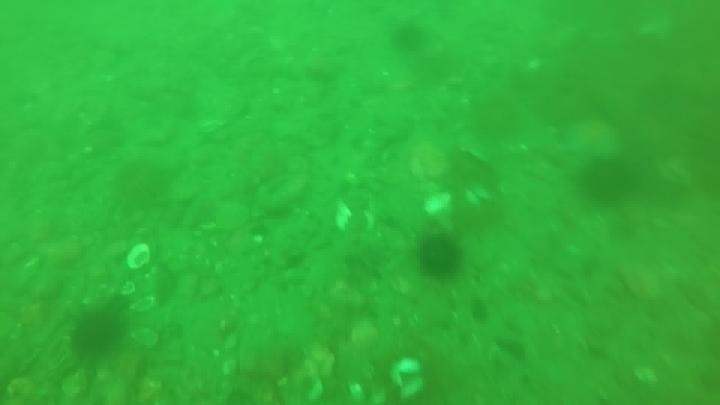echinus: (111, 159, 171, 212), (69, 308, 126, 360), (578, 157, 638, 206), (469, 93, 523, 142), (416, 233, 464, 280), (390, 21, 428, 54)
starfish: (560, 116, 623, 163)
